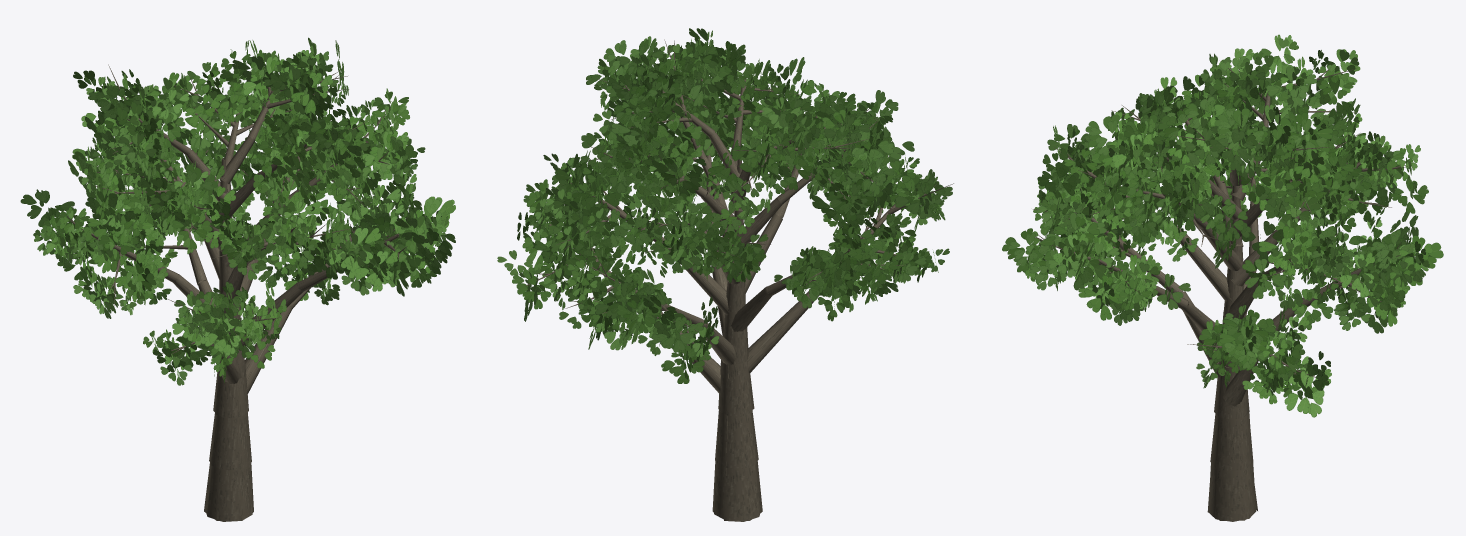
Rendered from linden-18531.glb.
3 renders of one model, left to right at view 1: azimuth 30°, elevation 25°; view 2: azimuth 150°, elevation 25°; view 3: azimuth 270°, elevation 25°, orthographic.
Parts seen in each view (by area): view 1: near_leaves, far_leaves, near_bark, far_bark, near_winter; view 2: near_leaves, far_leaves, near_bark, far_bark, near_winter; view 3: near_leaves, far_leaves, near_bark, far_bark, near_winter.
Boxes of the visible parts, x1=… form: near_leaves: x1=27, y1=40, x2=452, y2=385; far_leaves: x1=20, y1=37, x2=455, y2=382; near_bark: x1=82, y1=87, x2=398, y2=521; far_bark: x1=82, y1=87, x2=398, y2=520; near_winter: x1=67, y1=64, x2=425, y2=355; near_leaves: x1=497, y1=30, x2=949, y2=380; far_leaves: x1=512, y1=28, x2=952, y2=383; near_bark: x1=549, y1=67, x2=920, y2=521; far_bark: x1=549, y1=68, x2=903, y2=520; near_winter: x1=526, y1=40, x2=953, y2=360; near_leaves: x1=1008, y1=37, x2=1432, y2=413; far_leaves: x1=1002, y1=34, x2=1443, y2=417; near_bark: x1=1052, y1=83, x2=1386, y2=521; far_bark: x1=1052, y1=83, x2=1373, y2=520; near_winter: x1=1033, y1=61, x2=1407, y2=381.
Bounding box in the file's own units: 7.84 × 8.93 × 8.22.
Materials: 2 (2 with a texture image).
